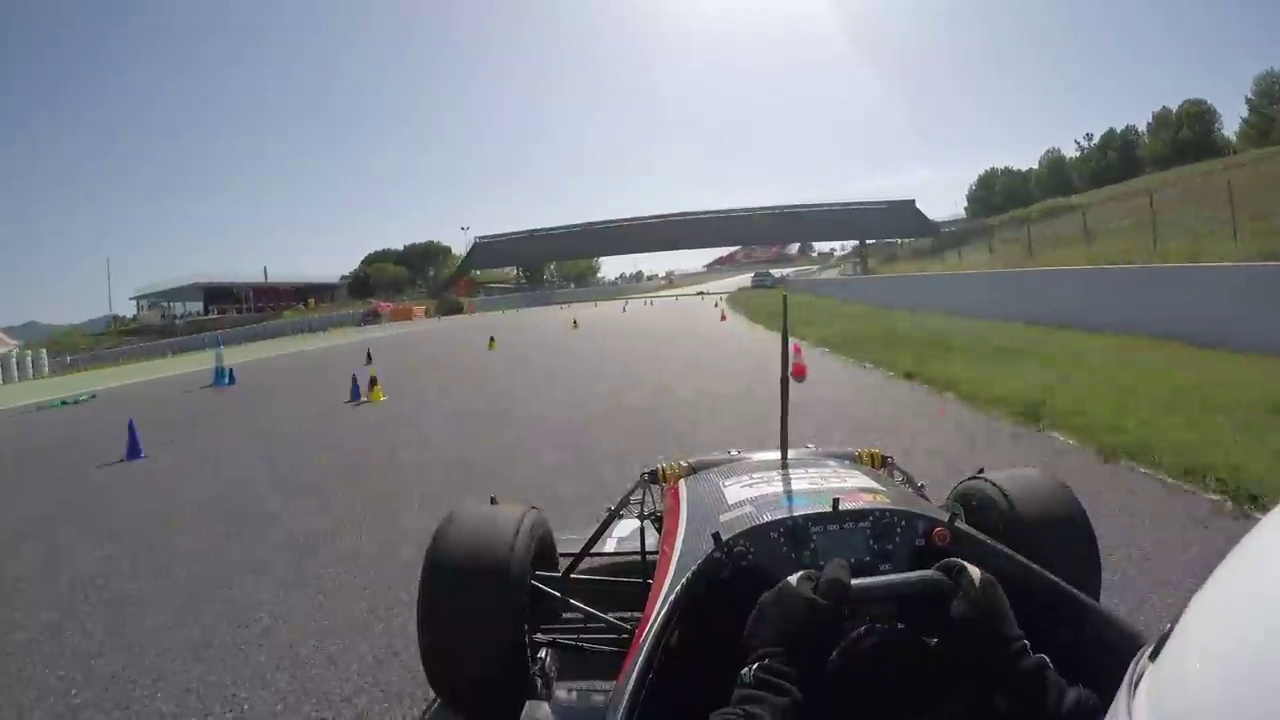Cone: (121, 420, 149, 463), (789, 341, 812, 379), (365, 368, 389, 403), (345, 369, 369, 404)
